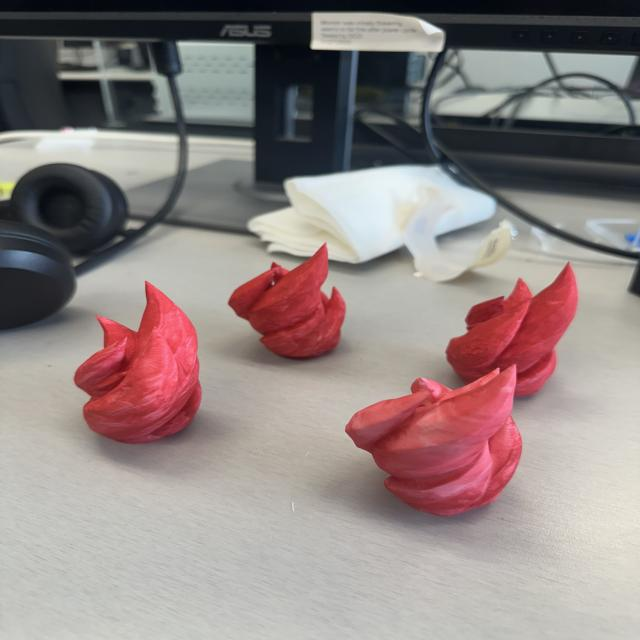fire: (346, 364, 524, 518), (73, 280, 204, 444), (447, 261, 581, 396), (225, 243, 346, 360)
